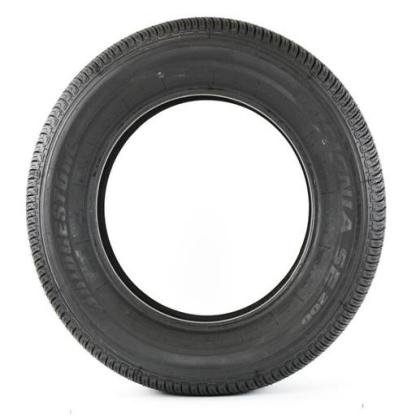Tire: (25, 17, 388, 398)
